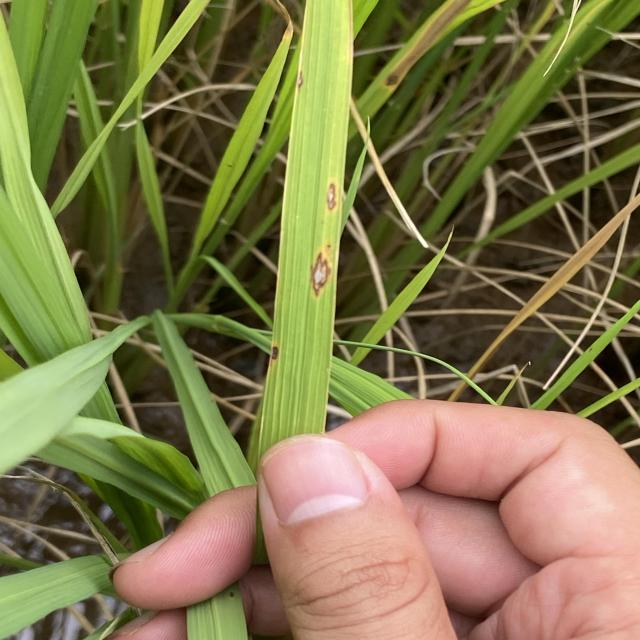Dao on: (311, 244, 332, 297), (326, 182, 337, 211)
